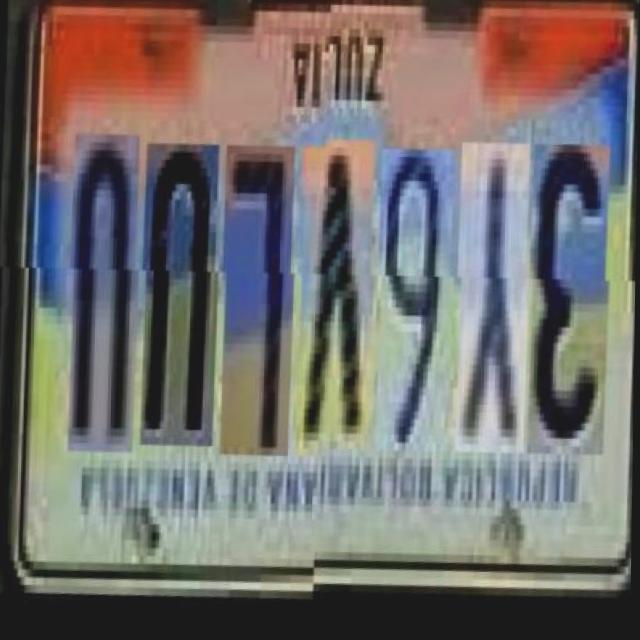3: (524, 150, 608, 467)
6: (373, 155, 453, 465)
l: (216, 145, 293, 462)
u: (138, 143, 219, 452), (65, 133, 139, 458)
v: (292, 145, 374, 462)
y: (451, 148, 529, 465)
